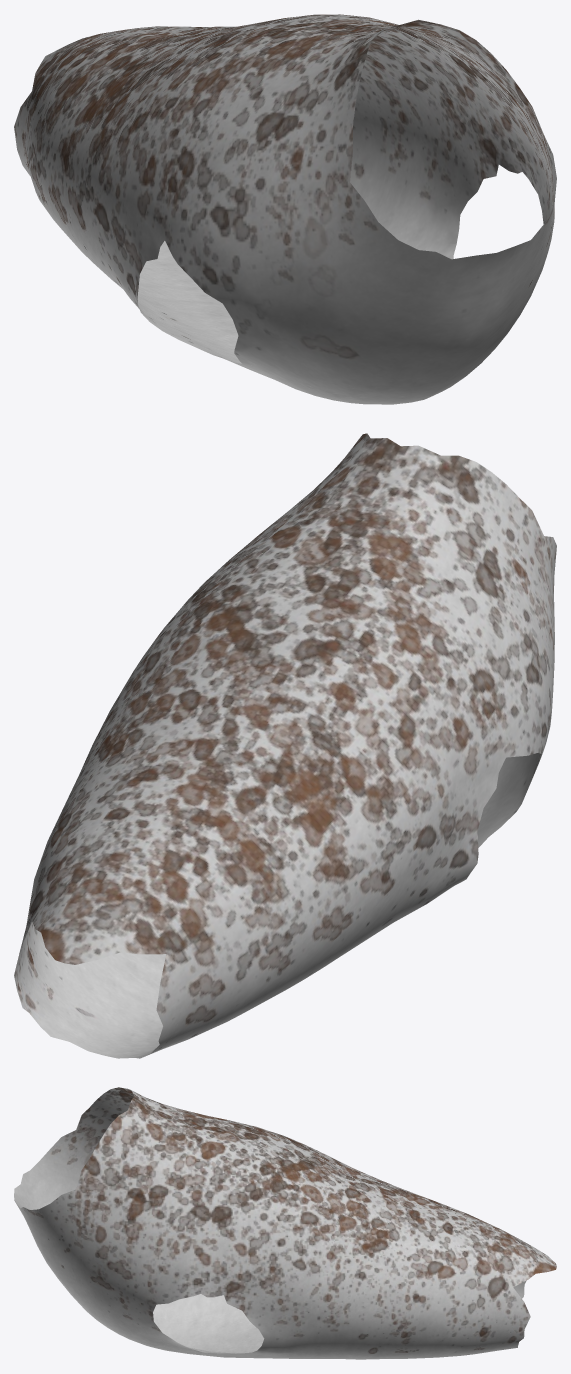
File: seal_body.obj
The picture shows the model from 3 angles, top to bottom: view 1: azimuth 30°, elevation 25°; view 2: azimuth 150°, elevation 25°; view 3: azimuth 270°, elevation 25°; orthographic projection. The views are drawn at different scales.
Parts seen in each view (by area): view 1: defaultMaterial; view 2: defaultMaterial; view 3: defaultMaterial.
Part boxes in pixels (box(x1,y1,x2,y2)): defaultMaterial: box(14, 14, 556, 404); defaultMaterial: box(14, 433, 556, 1058); defaultMaterial: box(14, 1087, 556, 1359).
Size of the model in its own units: 0.6273 by 0.6956 by 1.34.
